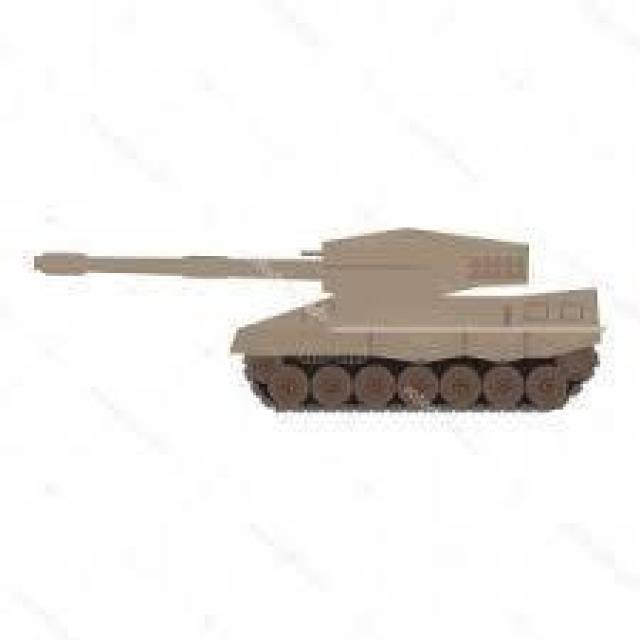Tanks: (38, 226, 604, 417)
